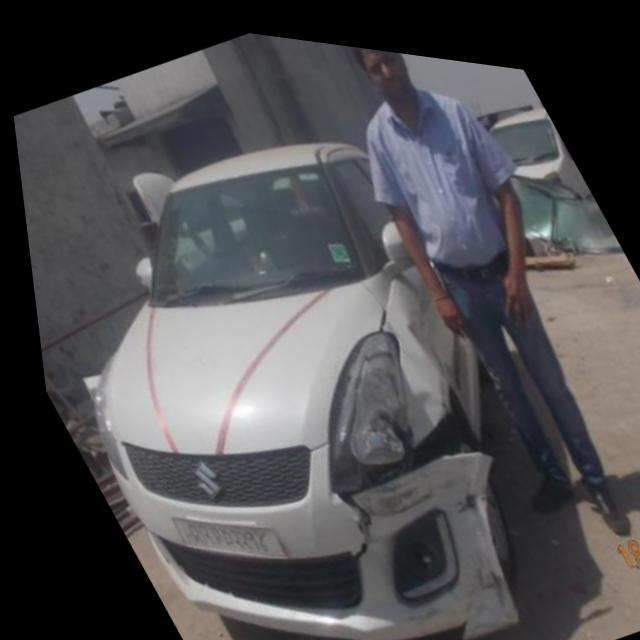crack: (405, 534, 500, 628), (318, 485, 365, 555), (443, 477, 471, 512)
dent: (394, 368, 434, 438)
dislocated part: (328, 361, 482, 493)
lamp broken: (338, 398, 408, 475)
rub: (337, 463, 435, 517)
